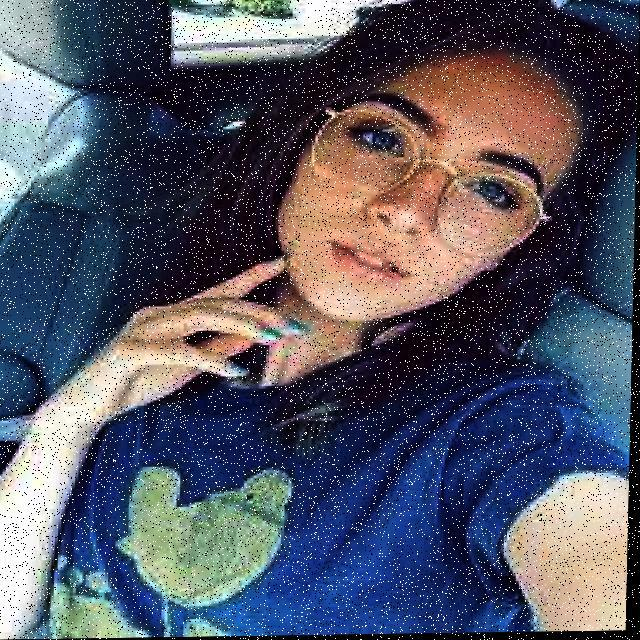noSeatbelt: (58, 309, 610, 639)
